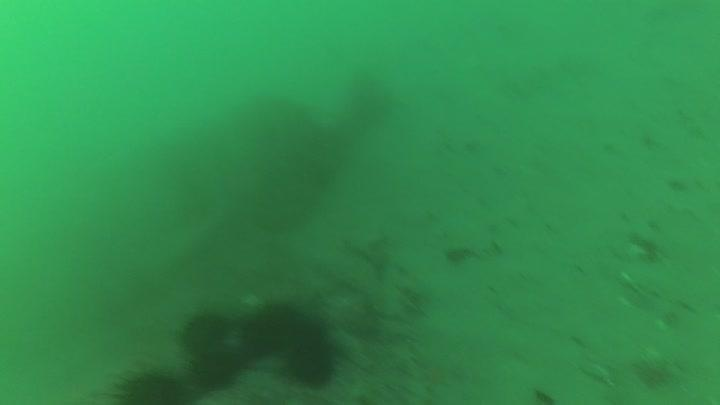echinus: (277, 313, 344, 391), (240, 299, 307, 359), (108, 365, 188, 404), (177, 308, 231, 356), (189, 346, 242, 391)
